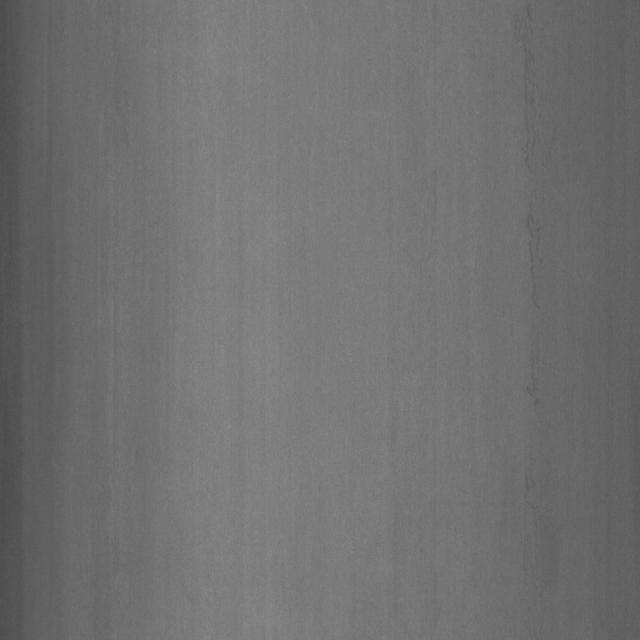inclusion: (510, 0, 556, 416)
